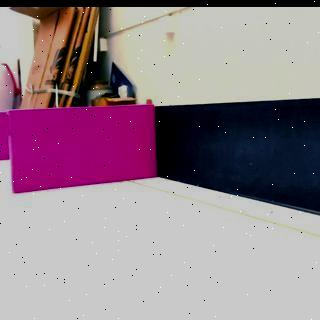xparking: (11, 112, 152, 184)
